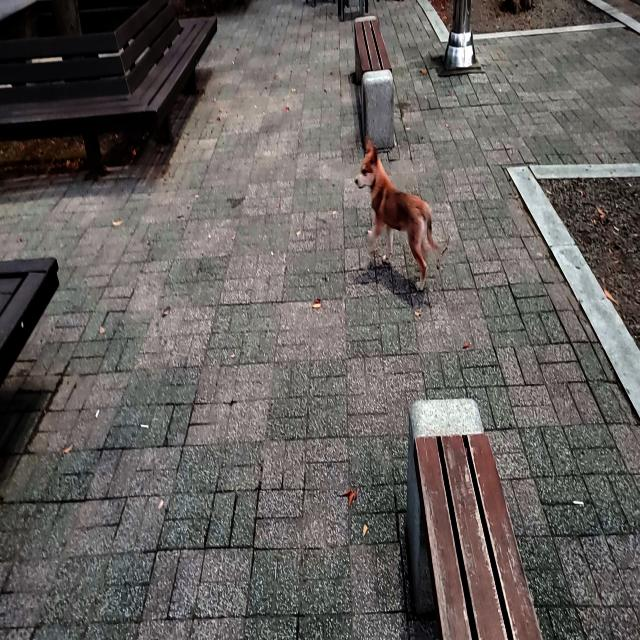Dog: (354, 136, 451, 293)
